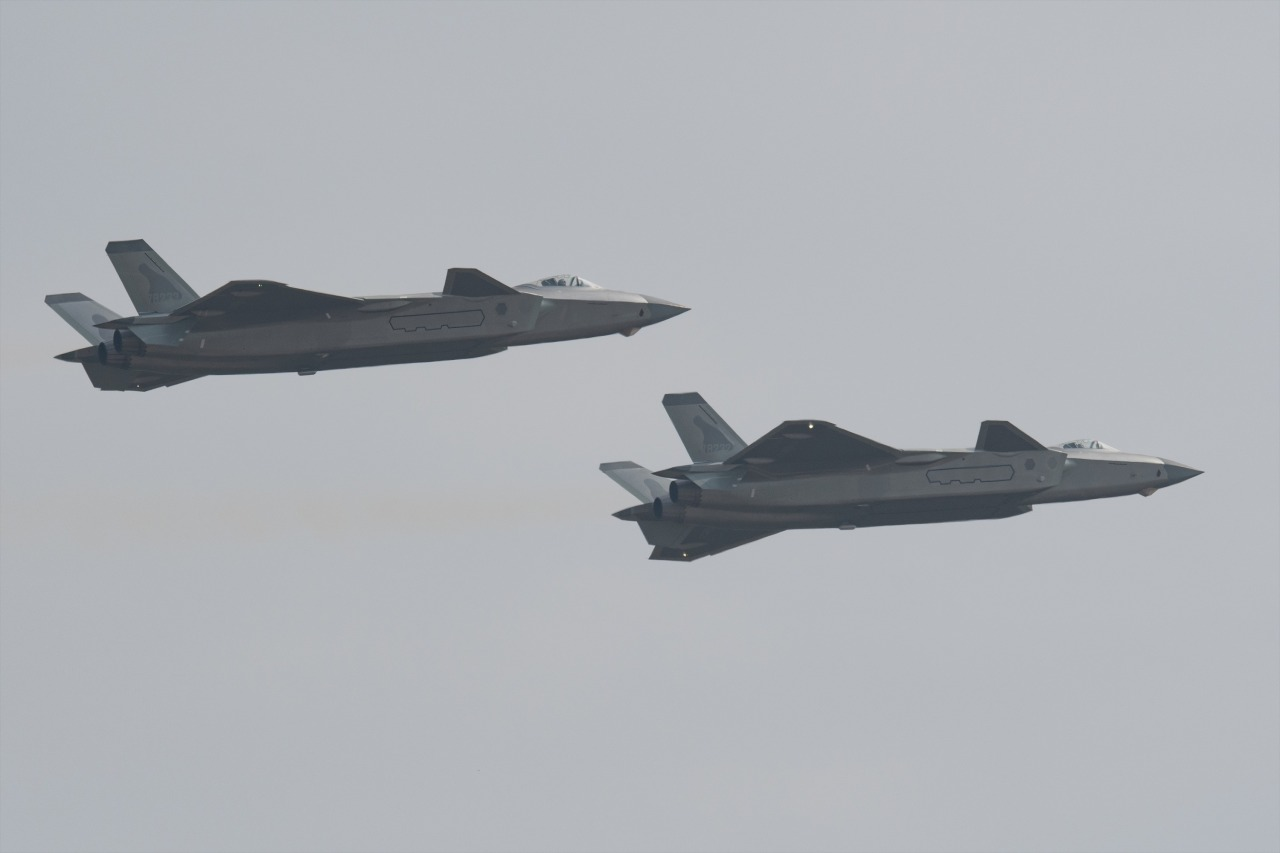J20: (598, 391, 1205, 563), (43, 237, 691, 393)
